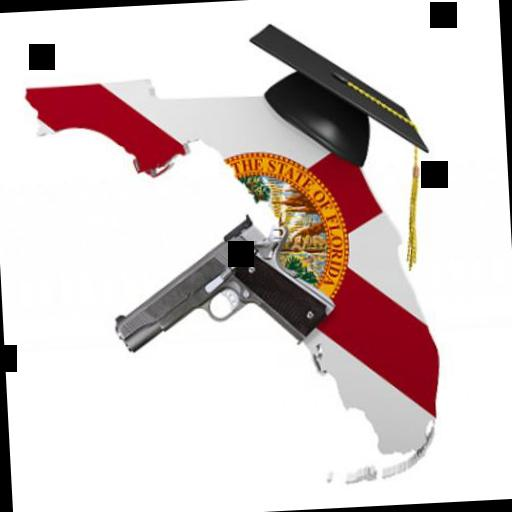Handgun: (112, 204, 350, 362)
